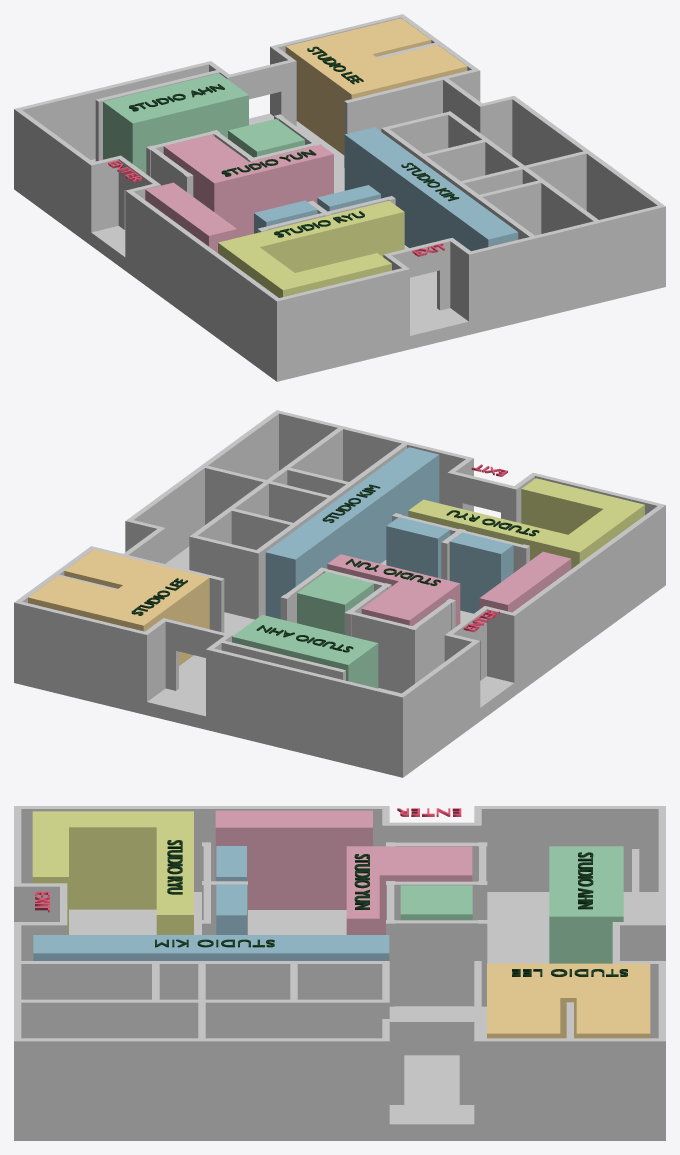
The model's file is HallV2.gltf.
3 renders of one model, top to bottom at view 1: azimuth 30°, elevation 25°; view 2: azimuth 150°, elevation 25°; view 3: azimuth 270°, elevation 25°, orthographic. The views are drawn at different scales.
Visible parts, largest first — view 1: sak-modelV2, Cube.007, Cube.006, Cube, Cube.002, Cube.005, Cube.008, Cube.001, Cube.003, Cube.004; view 2: sak-modelV2, Cube, Cube.007, Cube.006, Cube.005, Cube.002, Cube.003, Cube.001, Cube.004, Cube.008; view 3: sak-modelV2, Cube.006, Cube.008, Cube.007, Cube, Cube.005, Cube.002, Cube.001, Cube.004, Cube.003, STUDIO AHN, STUDIO RYU (+3 smaller).
Boxes of the visible parts, x1=… form: sak-modelV2: x1=14, y1=14, x2=665, y2=381; Cube.007: x1=285, y1=18, x2=467, y2=155; Cube.006: x1=218, y1=200, x2=404, y2=297; Cube: x1=344, y1=127, x2=518, y2=251; Cube.002: x1=163, y1=134, x2=333, y2=237; Cube.005: x1=103, y1=73, x2=248, y2=173; Cube.008: x1=145, y1=182, x2=237, y2=252; Cube.001: x1=228, y1=119, x2=304, y2=157; Cube.003: x1=254, y1=200, x2=317, y2=233; Cube.004: x1=317, y1=185, x2=380, y2=211; sak-modelV2: x1=14, y1=410, x2=665, y2=777; Cube: x1=265, y1=447, x2=439, y2=619; Cube.007: x1=28, y1=549, x2=209, y2=665; Cube.006: x1=408, y1=478, x2=644, y2=568; Cube.005: x1=232, y1=615, x2=378, y2=688; Cube.002: x1=327, y1=554, x2=460, y2=626; Cube.003: x1=449, y1=532, x2=513, y2=613; Cube.001: x1=297, y1=572, x2=373, y2=634; Cube.004: x1=386, y1=517, x2=450, y2=578; Cube.008: x1=479, y1=551, x2=571, y2=612; sak-modelV2: x1=14, y1=806, x2=665, y2=1140; Cube.006: x1=32, y1=811, x2=193, y2=934; Cube.008: x1=215, y1=810, x2=372, y2=909; Cube.007: x1=487, y1=963, x2=650, y2=1038; Cube: x1=33, y1=935, x2=389, y2=960; Cube.005: x1=549, y1=846, x2=623, y2=963; Cube.002: x1=346, y1=846, x2=472, y2=934; Cube.001: x1=400, y1=885, x2=472, y2=920; Cube.004: x1=216, y1=884, x2=246, y2=934; Cube.003: x1=216, y1=846, x2=246, y2=881; STUDIO AHN: x1=578, y1=852, x2=593, y2=909; STUDIO RYU: x1=167, y1=840, x2=182, y2=894.
Size of the model in its own units: 15.2 by 3.14 by 17.8.
